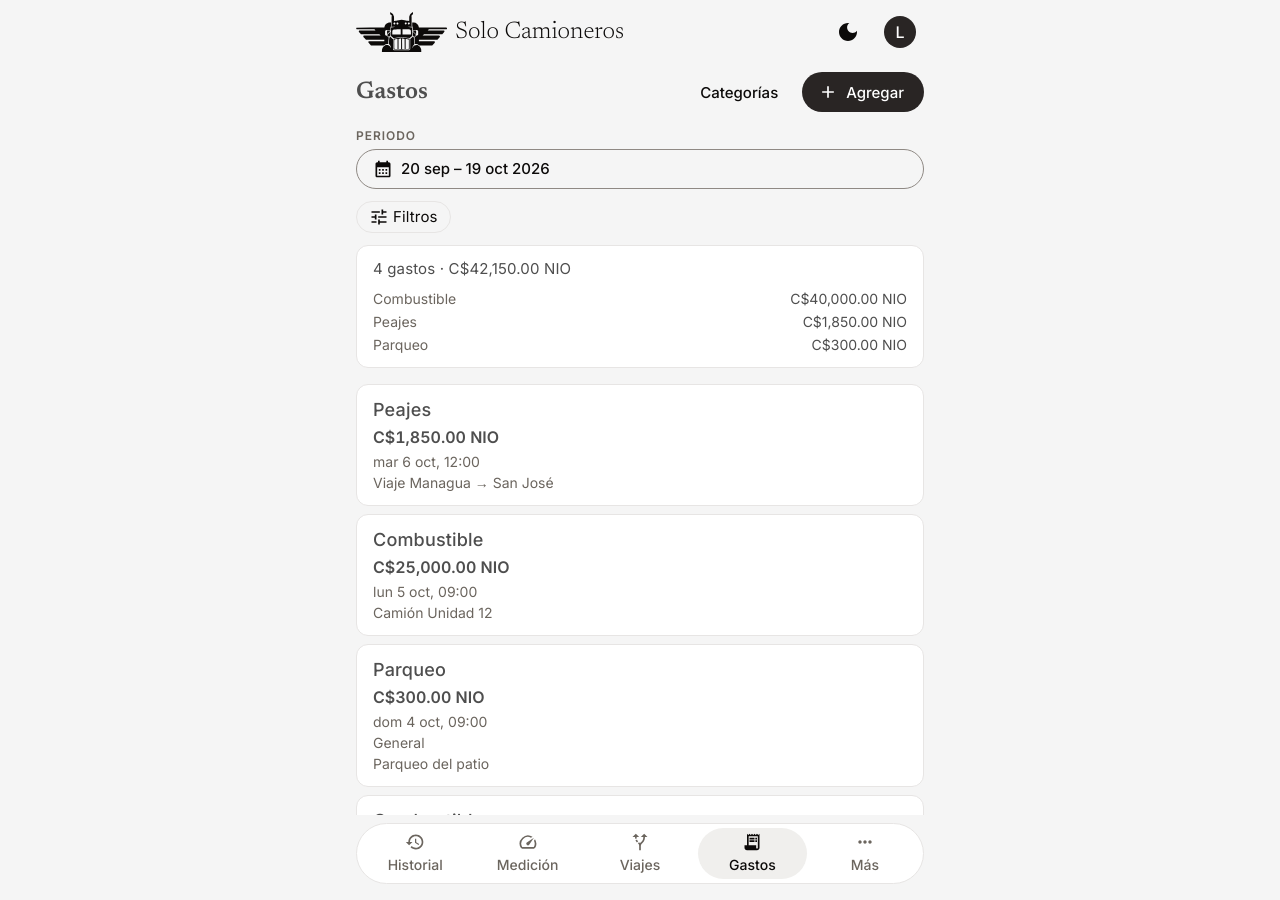
Test case: more filters › back from an expense, the filters are still on (CA-6)
Click the button "Filtros" at (403, 217), box [356,201,451,233]
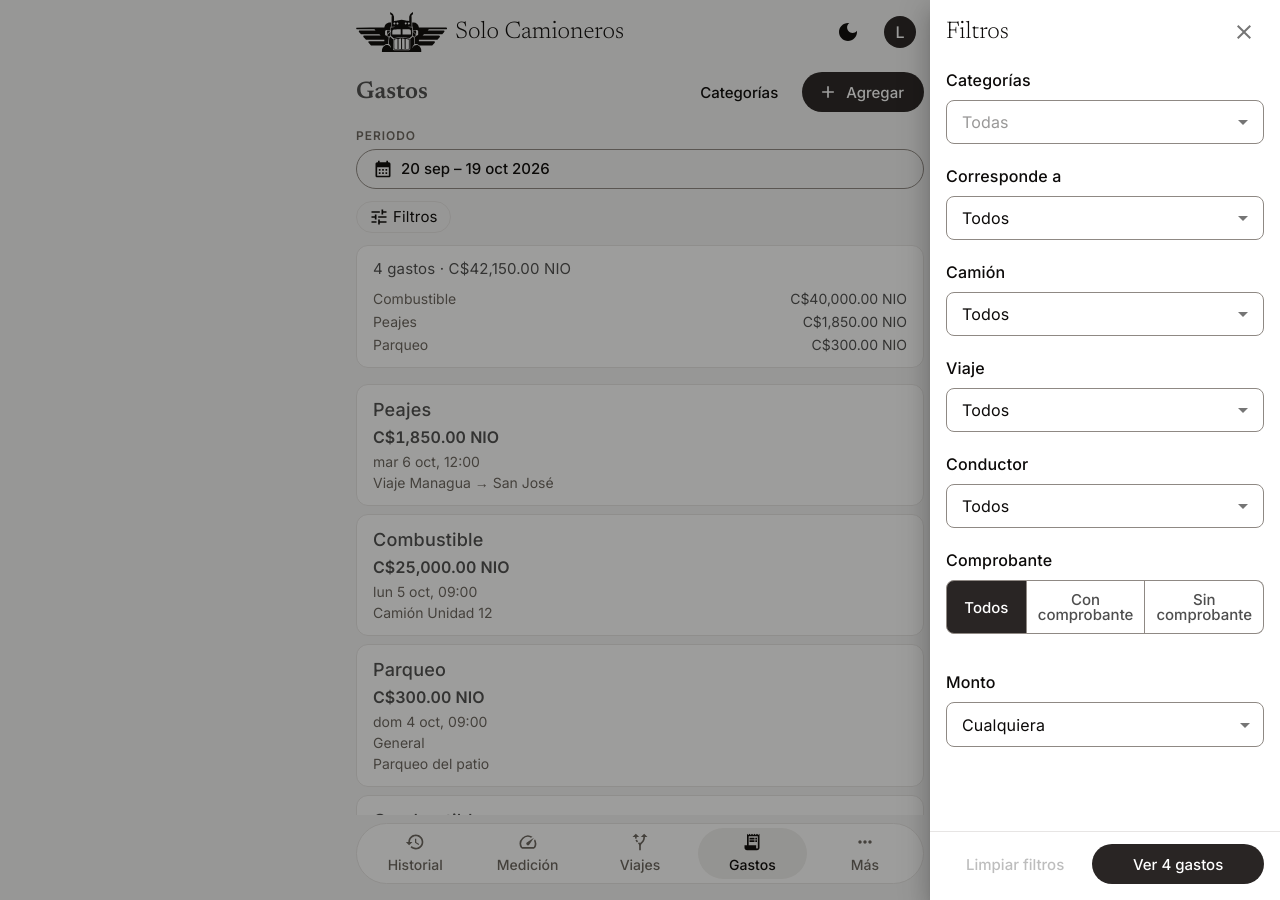
Press the mouse on the dropdown labelled "Corresponde a" at (1077, 218), box [946,196,1208,240]
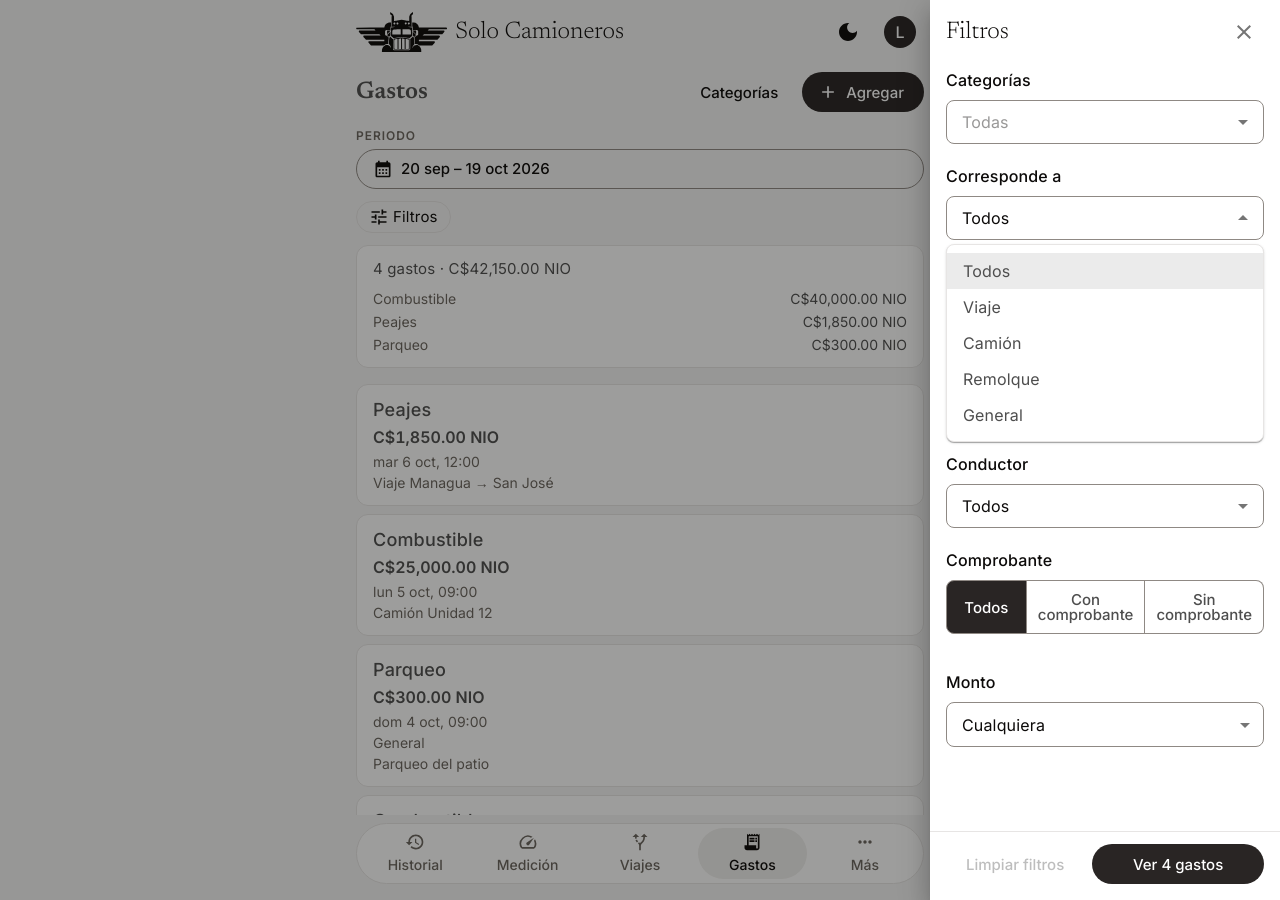
Click the option "General" at (993, 415), box [963,405,1023,425]
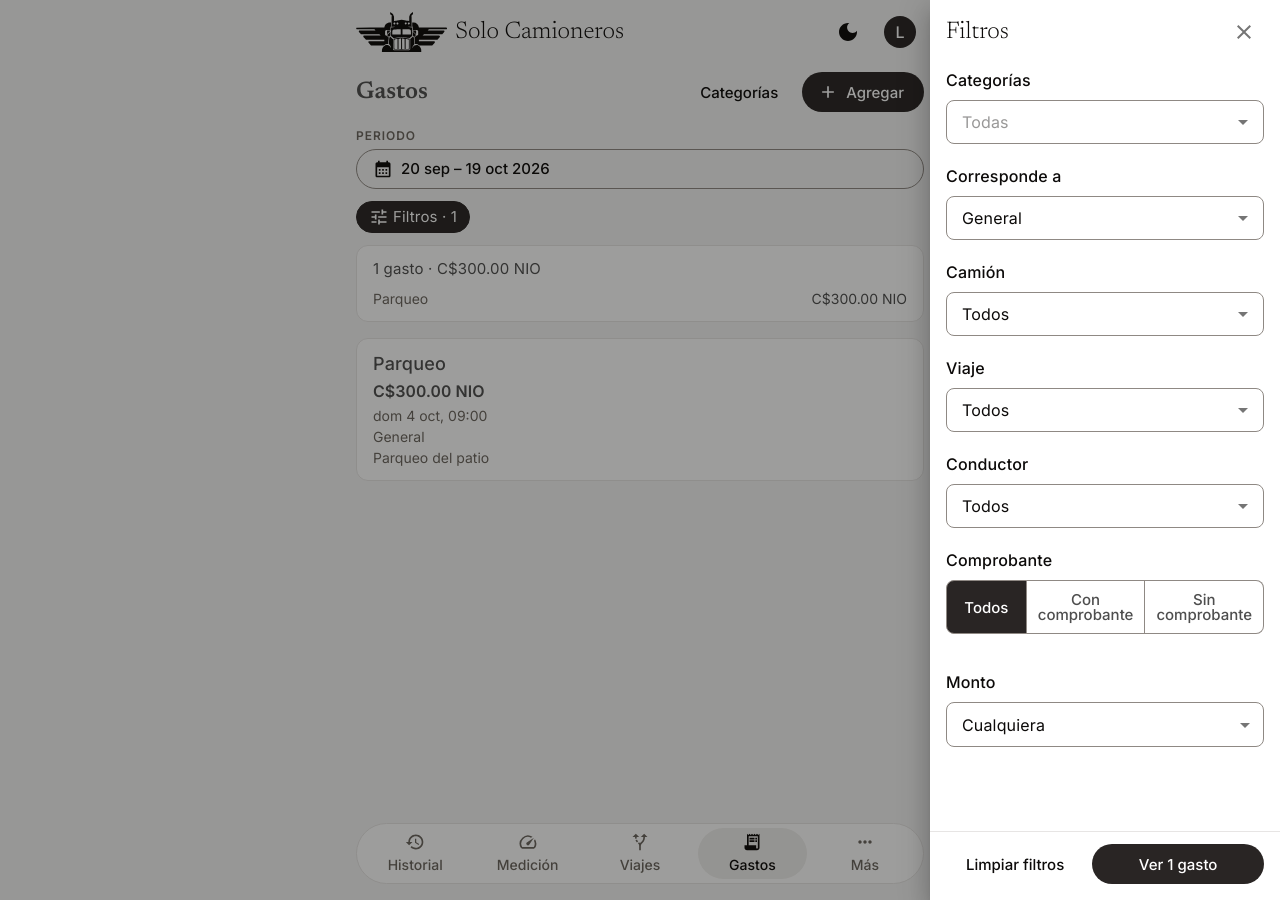
Click the button named "Cerrar filtros" at (1244, 32), box [1224,12,1264,52]
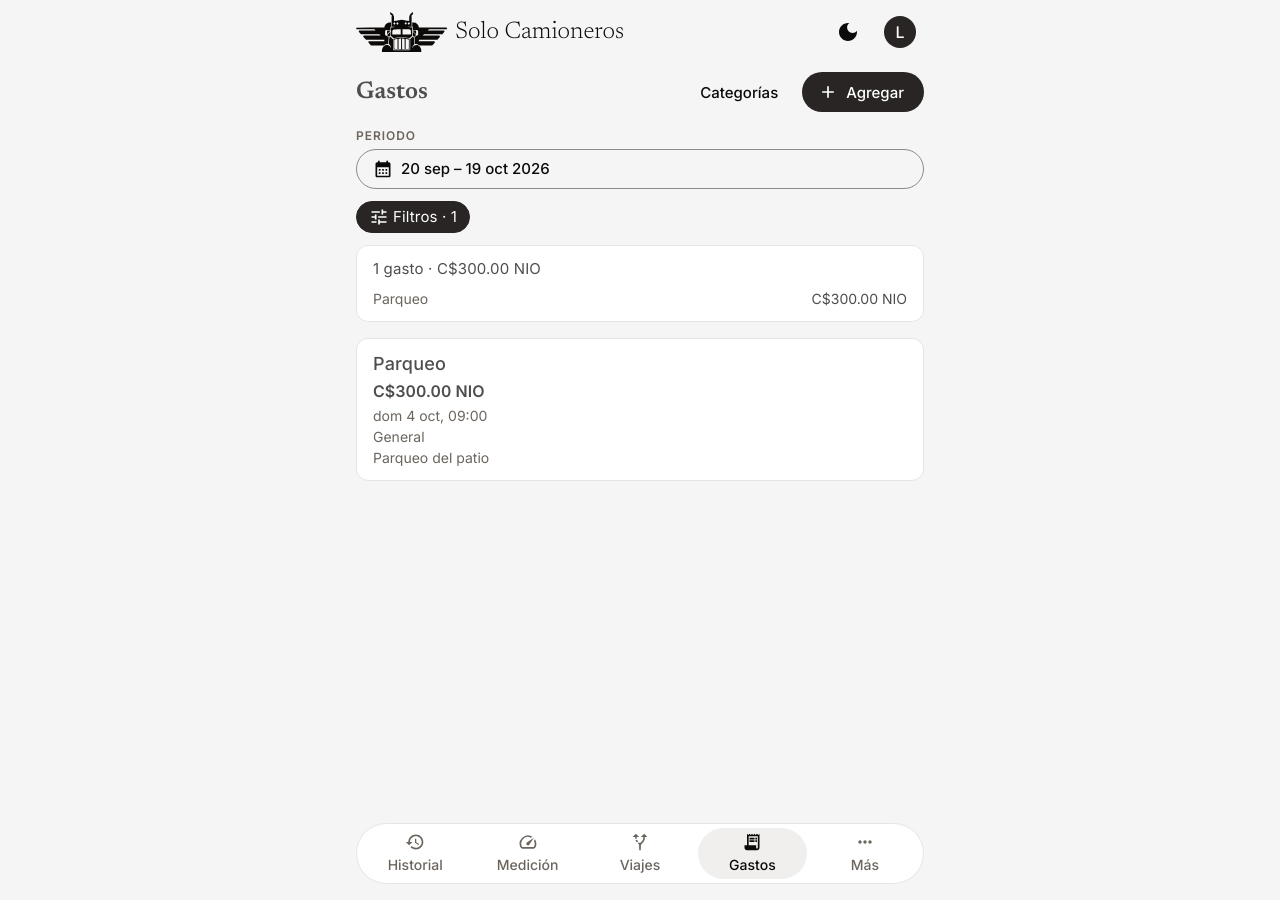
Click the button with aria-label "Gasto de Parqueo, C$300.00 NIO" at (409, 363), box [356,338,924,481]
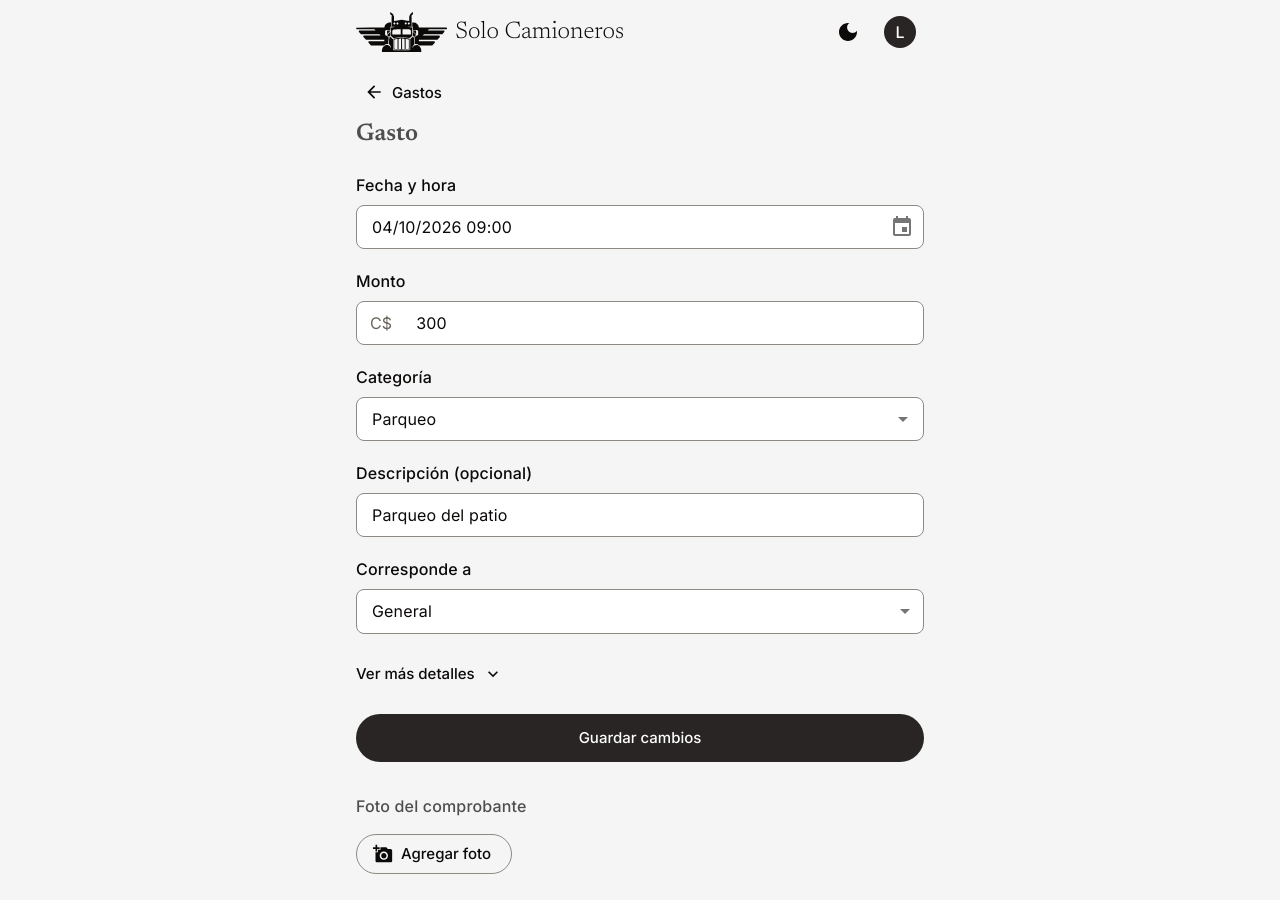
Click the button "Gastos" at (405, 92), box [348,72,462,112]
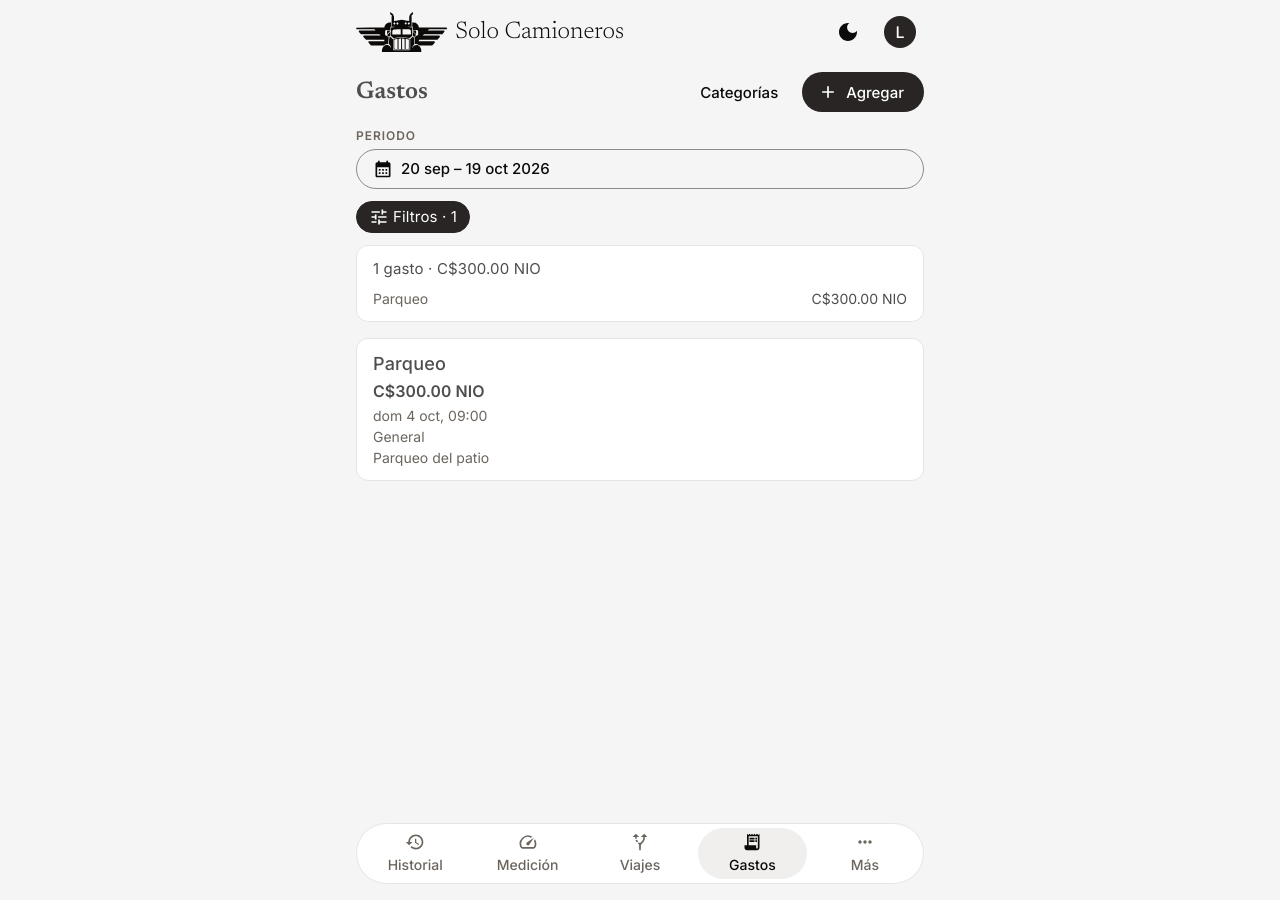
Expected: the message named "Totales de lo filtrado" reads "1 gasto · C$300.00 NIO", [356,245,924,322]
